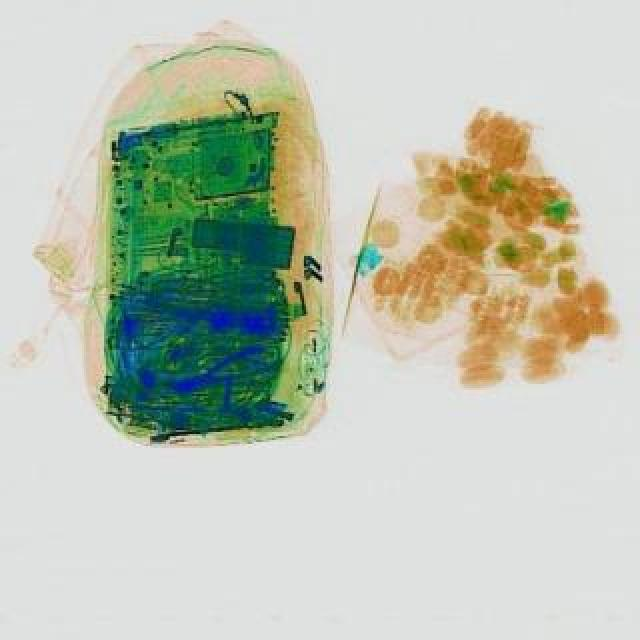wrench: (172, 336, 284, 400)
